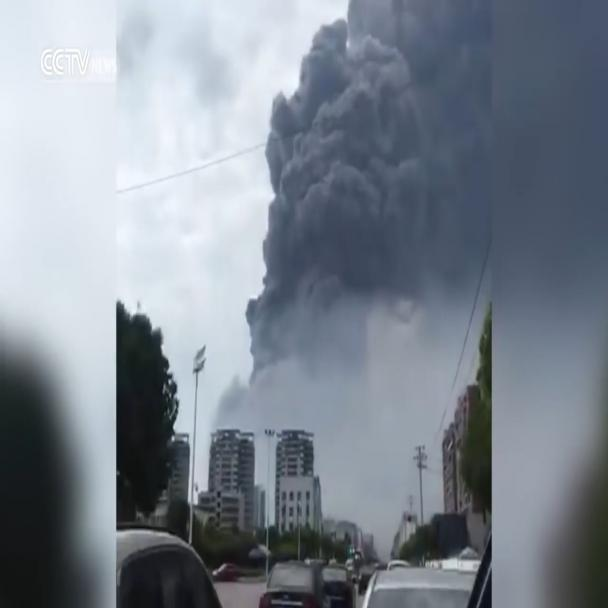smoke: (211, 0, 486, 552)
